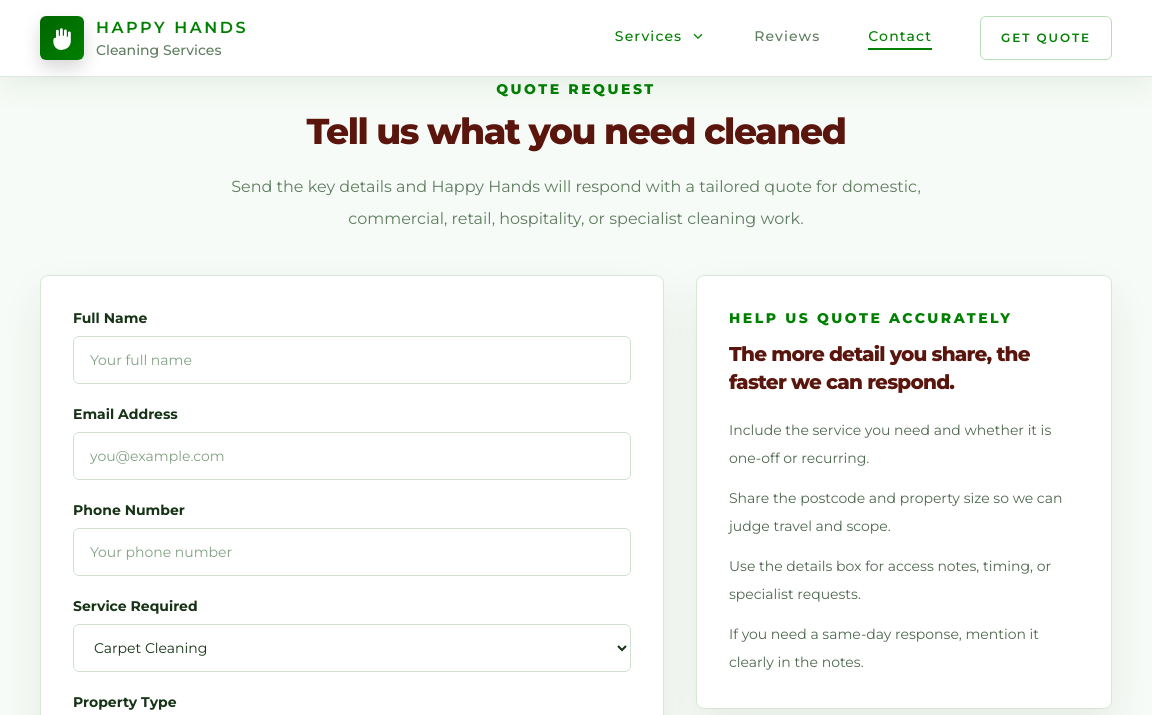
it: ContactPage › prefills the quote form service from search params and submits successfully
(page scrolled)
Expected: the dropdown labelled "Service Required" shows "Carpet Cleaning", [73, 624, 631, 672]
Type "Fu Hoang" into the field labelled "Full Name" at (352, 360), box [73, 336, 631, 384]
Type "test@example.com" into the field labelled "Email Address" at (352, 456), box [73, 432, 631, 480]
Type "07123456789" into the field labelled "Phone Number" at (352, 552), box [73, 528, 631, 576]
(page scrolled)
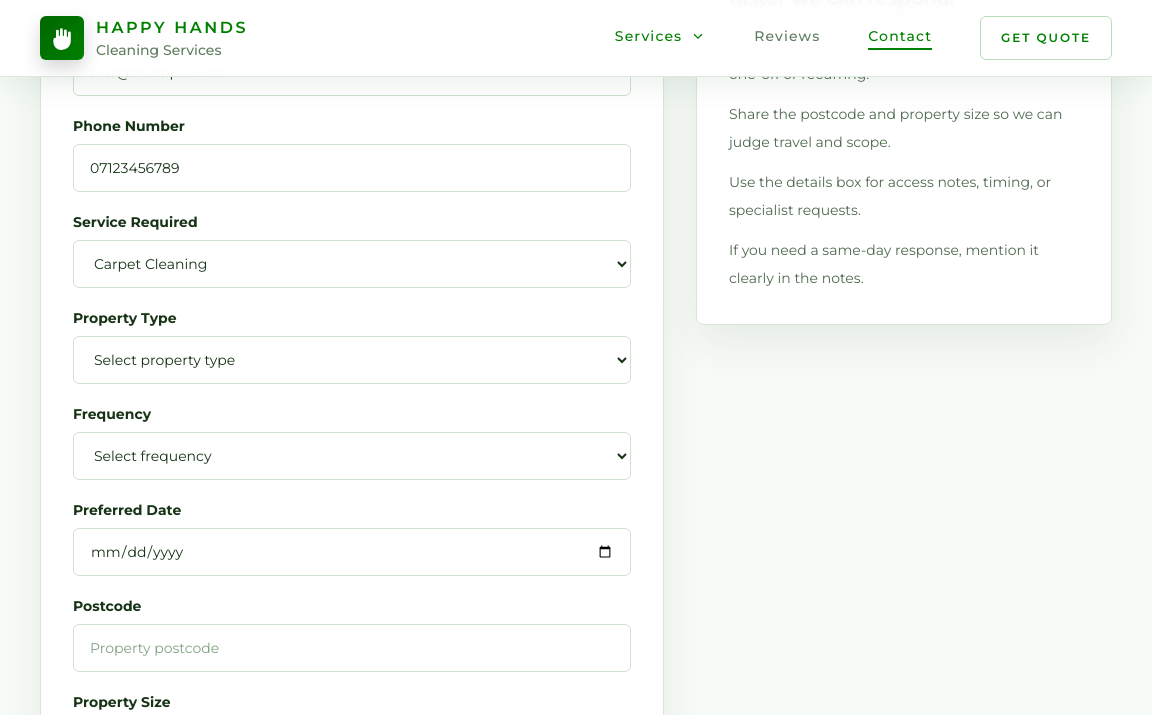
Select "House" in the dropdown labelled "Property Type" at (352, 360), box [73, 336, 631, 384]
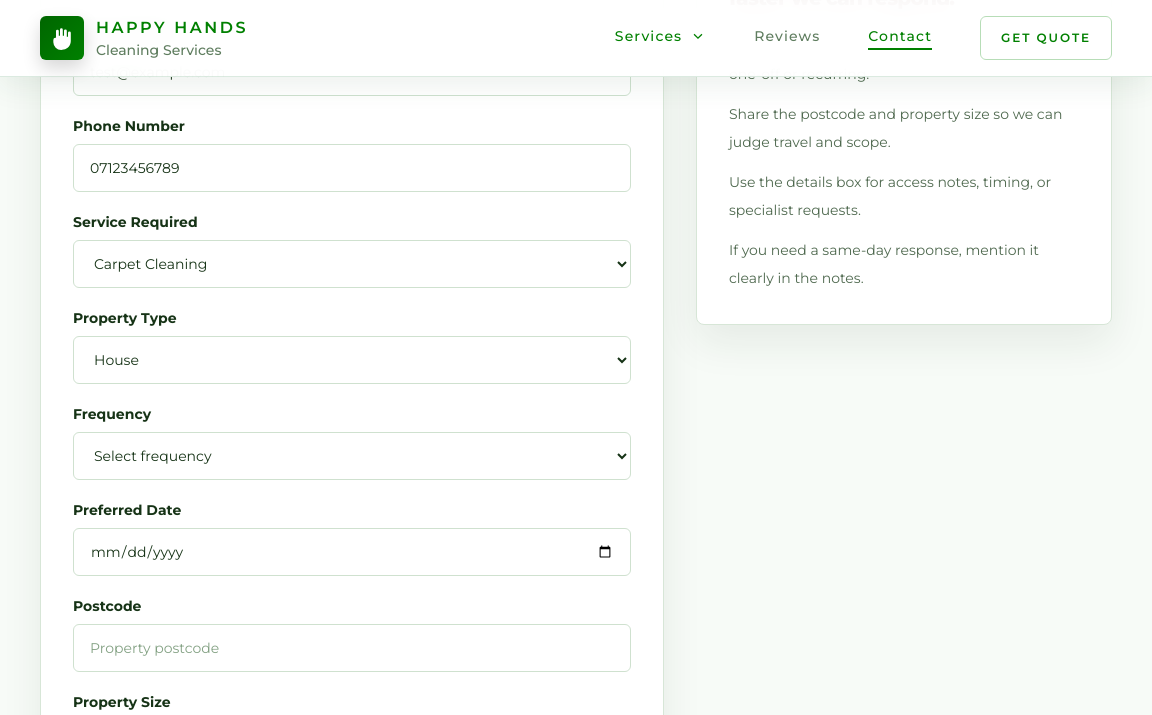
Select "One-off" in the dropdown labelled "Frequency" at (352, 456), box [73, 432, 631, 480]
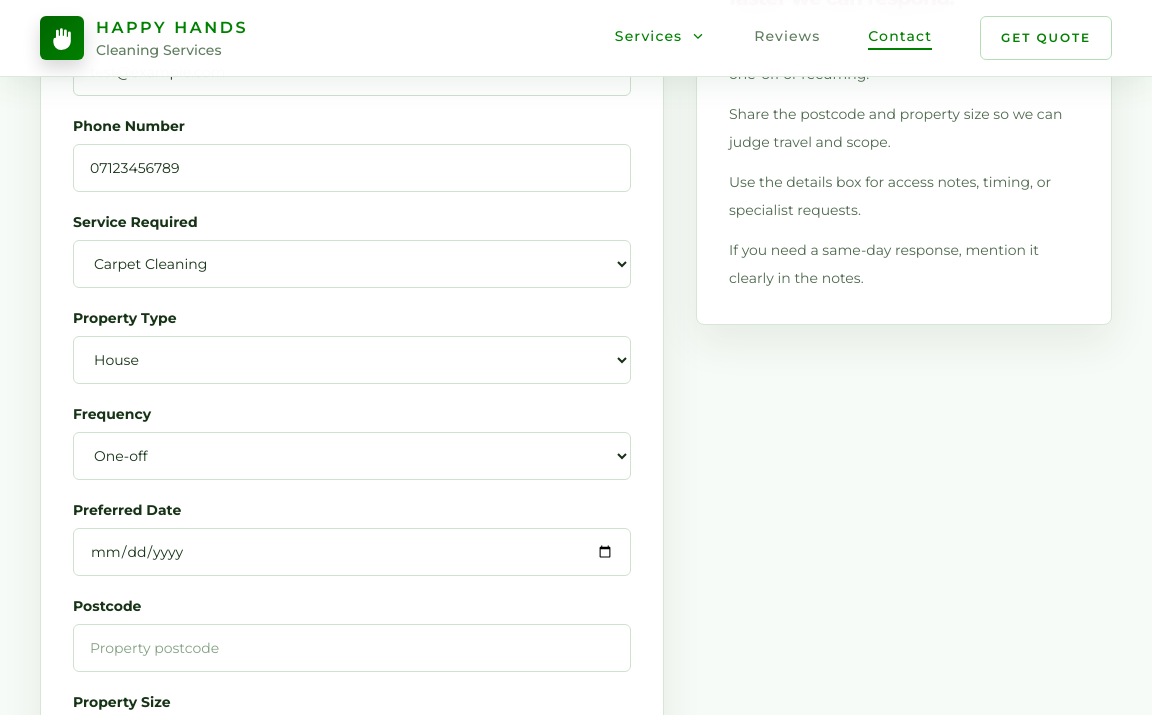
Type "NW6 7FX" into the field labelled "Postcode" at (352, 648), box [73, 624, 631, 672]
(page scrolled)
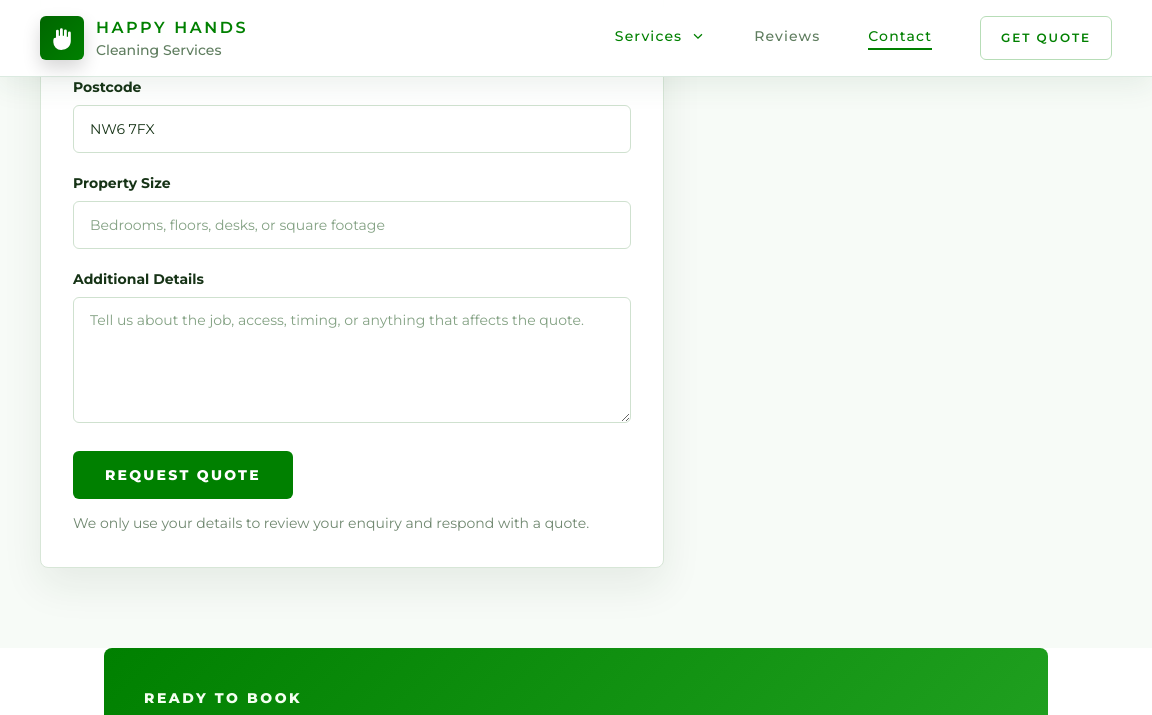
Replace the text in the text box labelled "Additional Details" with "Need carpet cleaning for two rooms." at (352, 360), box [73, 297, 631, 423]
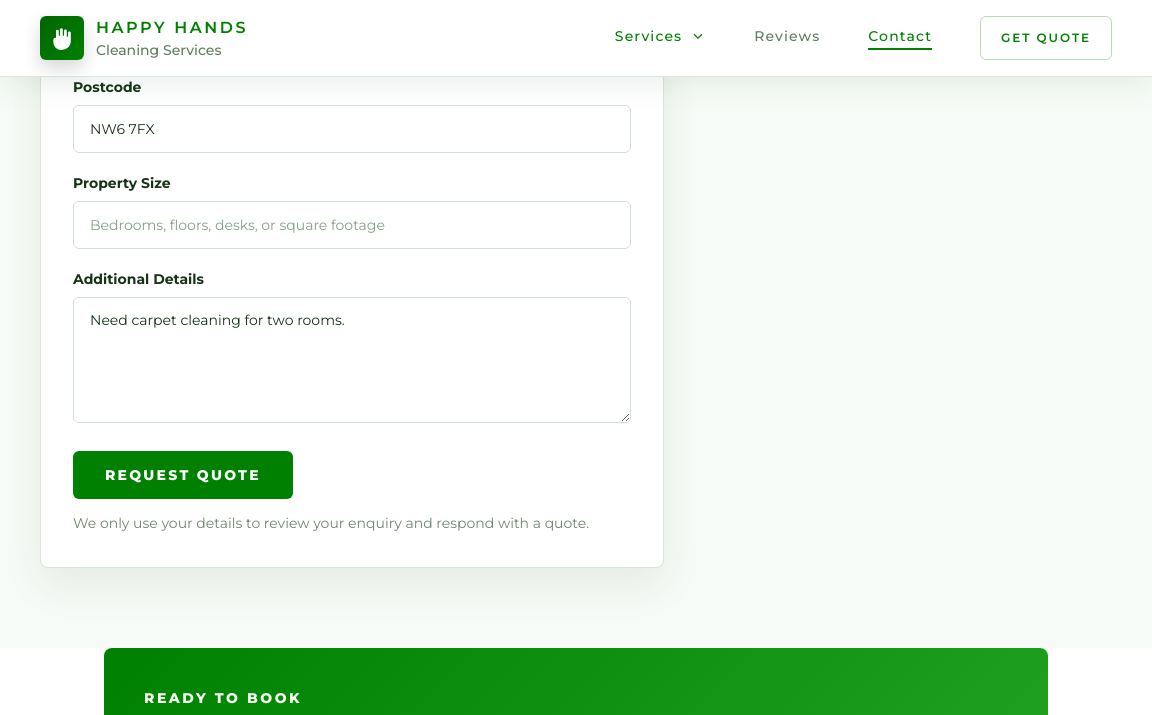
Click the button "Request Quote" at (183, 475), box [73, 451, 293, 499]
(page scrolled)
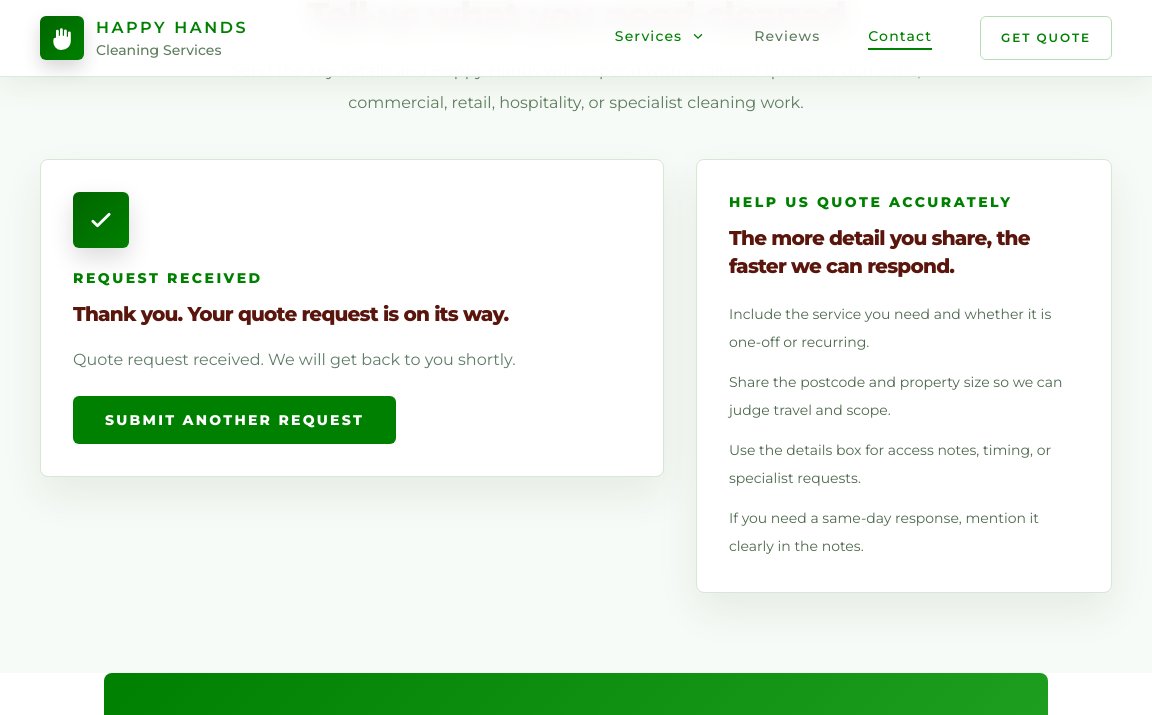
Expected: the text "Quote request received. We will get back to you shortly." is shown, [73, 350, 516, 369]
